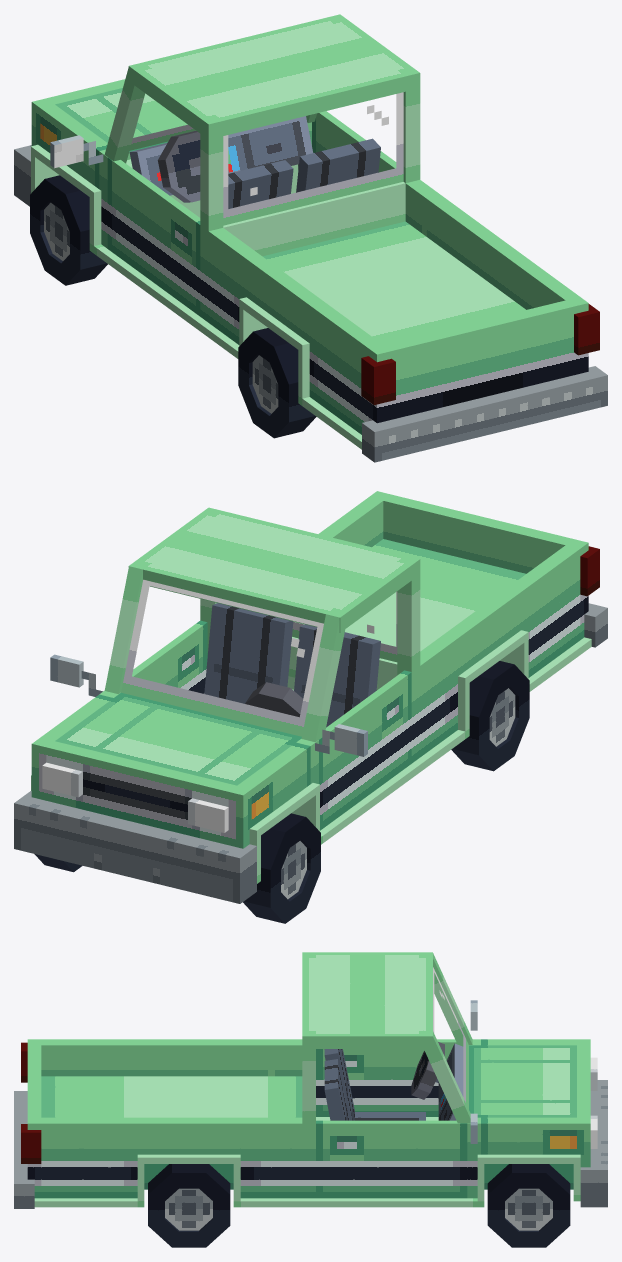
The model's file is pickup-mint.gltf.
3 renders of one model, top to bottom at view 1: azimuth 30°, elevation 25°; view 2: azimuth 150°, elevation 25°; view 3: azimuth 270°, elevation 25°, orthographic. The views are drawn at different scales.
Visible parts, largest first — view 1: cube (×37), tube (×2), cylinder (×3); view 2: cube (×37), tube (×2), cylinder (×3); view 3: cube (×37), tube (×2), cylinder (×3).
Boxes of the visible parts, box(x1,y1,x2,y2) form: cube (×37): box(14, 14, 607, 462); tube (×2): box(30, 175, 316, 438); cylinder (×3): box(44, 131, 278, 413); cube (×37): box(14, 491, 607, 903); tube (×2): box(243, 661, 529, 923); cylinder (×3): box(245, 682, 515, 899); cube (×37): box(14, 952, 607, 1208); tube (×2): box(148, 1164, 570, 1247); cylinder (×3): box(165, 1042, 552, 1230).
Size of the model in its own units: 2.15 by 1.65 by 4.32.
Materials: 2 (2 with a texture image).
